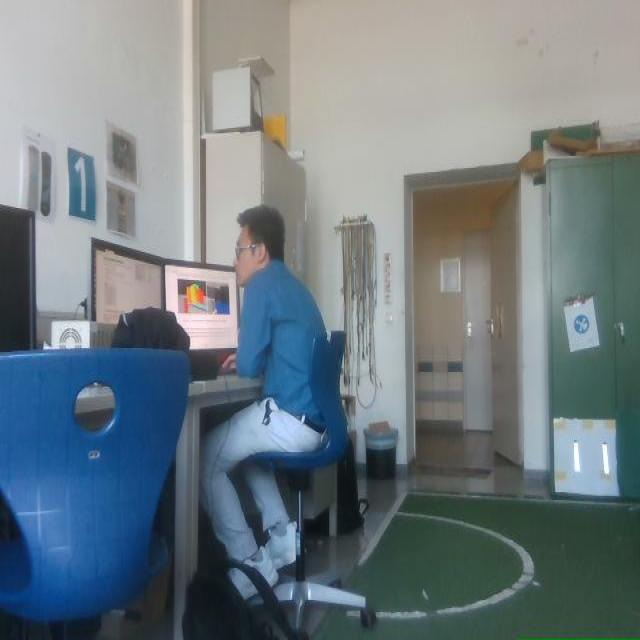humans: (200, 206, 324, 585)
objects: (183, 332, 375, 639), (0, 350, 187, 638), (0, 350, 187, 621), (252, 331, 375, 627), (182, 511, 307, 639), (182, 559, 307, 639), (163, 260, 239, 381), (112, 307, 218, 379), (90, 238, 165, 325), (182, 572, 272, 639), (0, 204, 35, 351), (112, 307, 189, 355), (112, 307, 189, 351), (336, 439, 368, 534), (0, 611, 100, 639), (615, 407, 639, 501), (49, 618, 100, 639), (187, 350, 219, 379)
